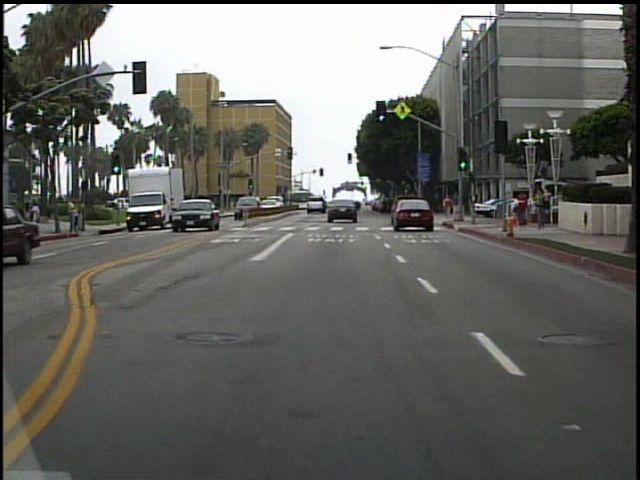person: (68, 193, 82, 238), (440, 194, 455, 219)
